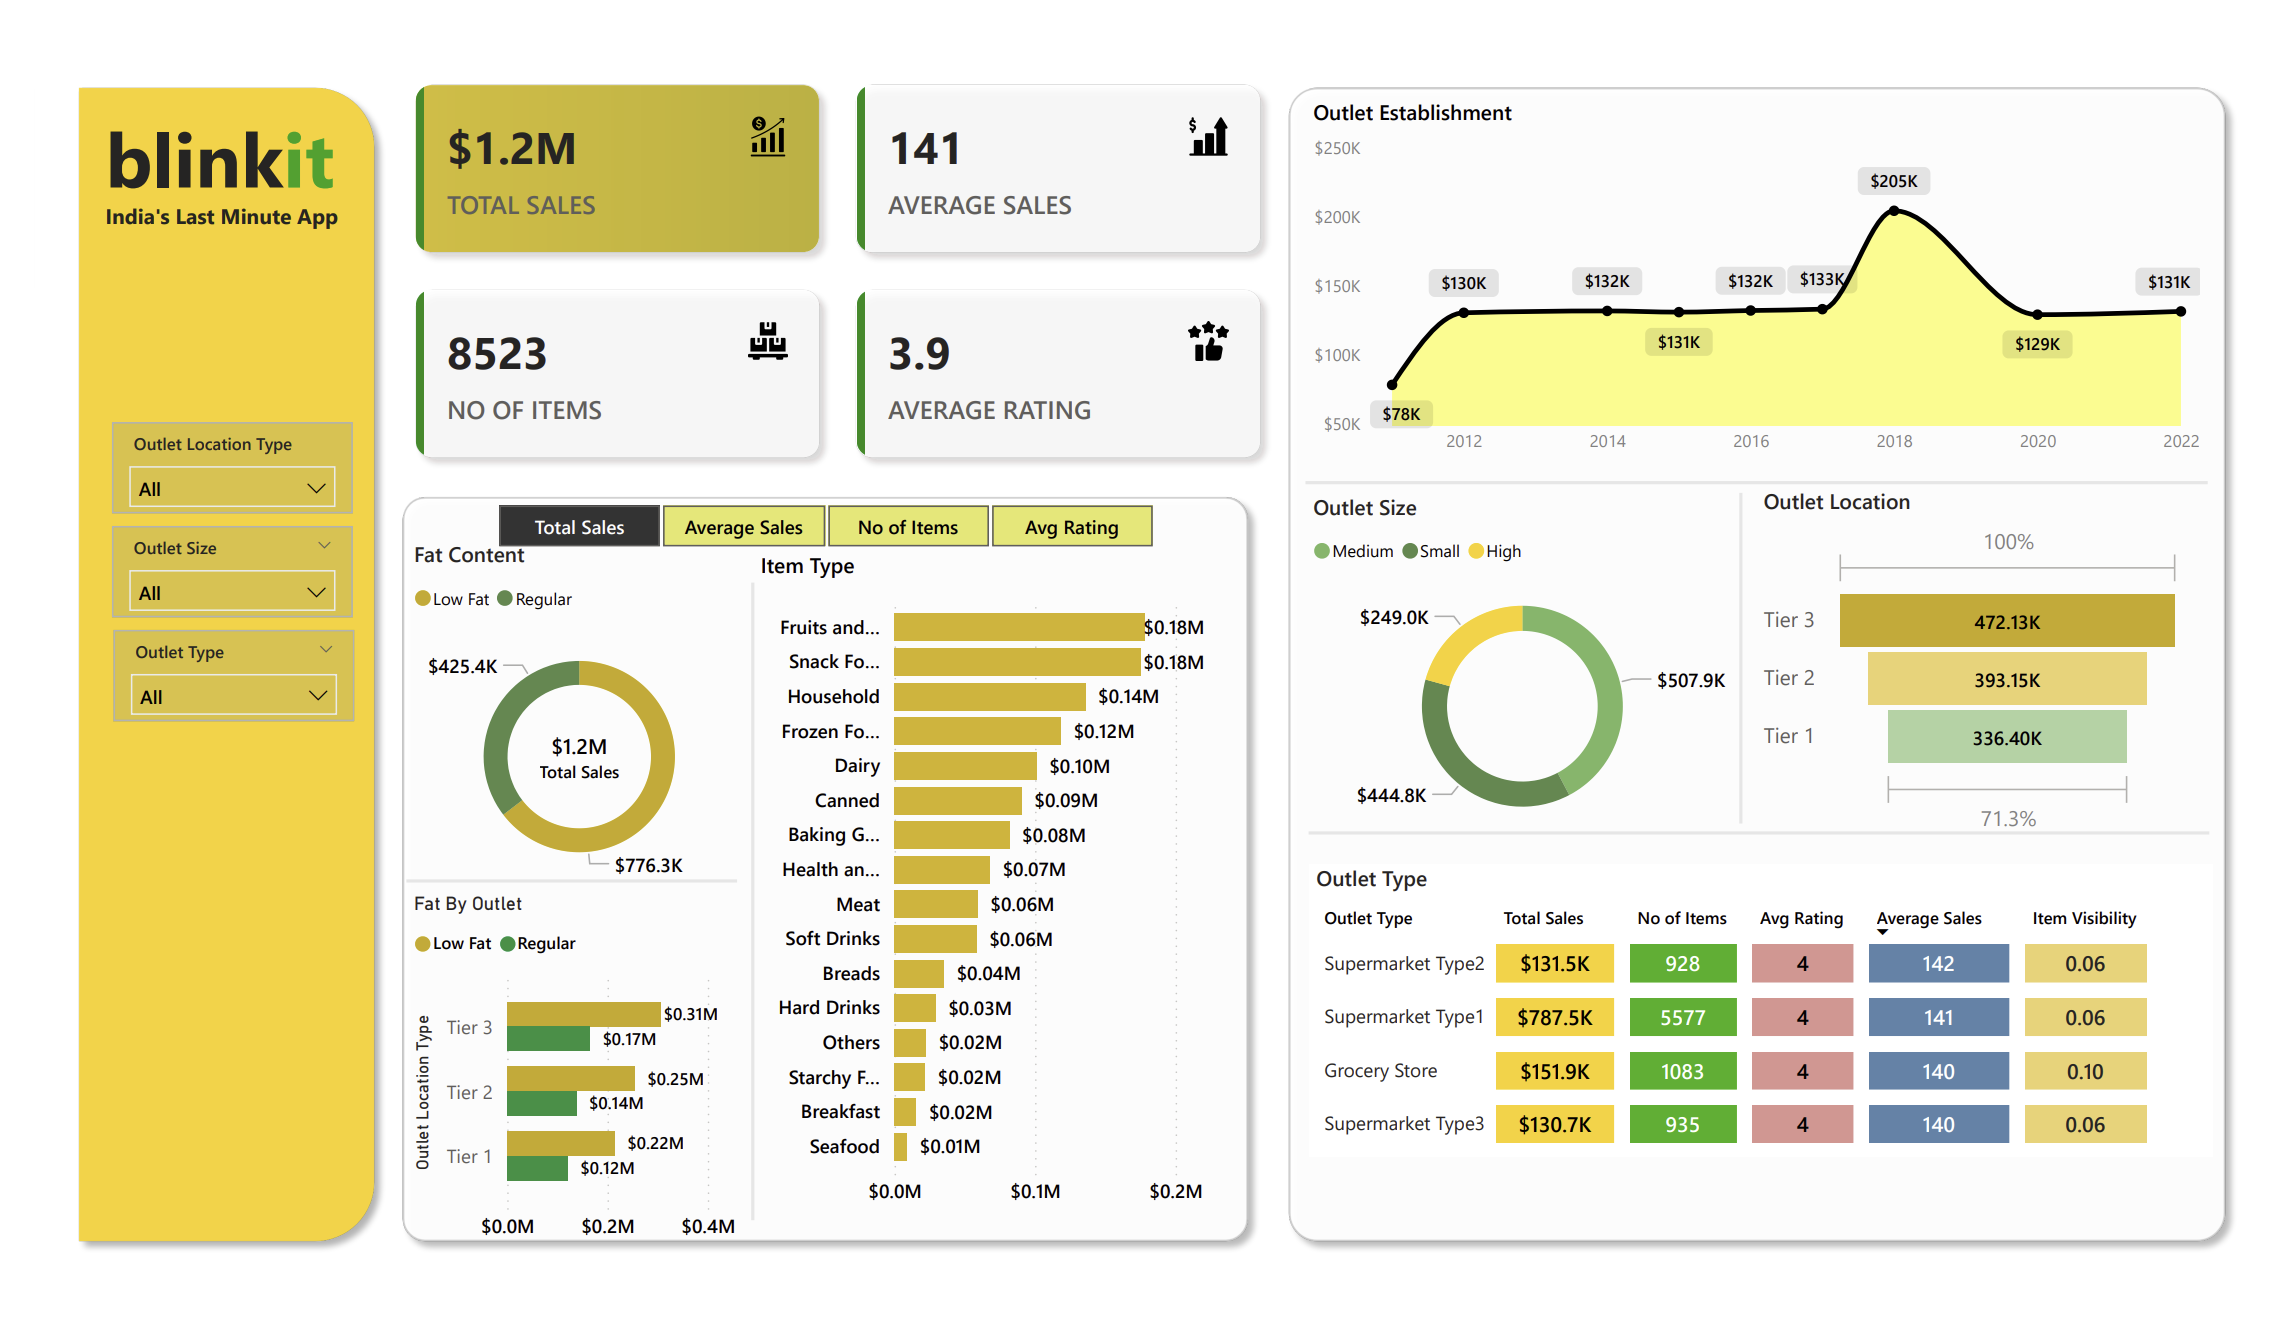

This screenshot's page, from the dashboard's own definition file:
{"tool":"powerbi","page":{"name":"Page 1","canvas":[1400,800],"ordinal":0},"visuals":[{"type":"shape","box":[19,25,205,750],"z":0},{"type":"textbox","box":[40,40,165,93.3],"z":1000},{"type":"textbox","box":[273.3,681.7,328.3,93.3],"z":2000},{"type":"textbox","box":[40,101,162,50],"z":3000},{"type":"cardVisual","fields":{"Data":["BlinkIT Grocery Data.Total Sales","BlinkIT Grocery Data.Average Sales","BlinkIT Grocery Data.No of Items","BlinkIT Grocery Data.Avg Rating"]},"box":[225,15,570,270],"z":4000},{"type":"shape","box":[225,285,554,490],"z":5000},{"type":"donutChart","title":"Fat Content","fields":{"Y":["BlinkIT Grocery Data.Total Sales"],"Category":["BlinkIT Grocery Data.Item Fat Content"]},"box":[236,321,220,230],"z":6000},{"type":"slicer","fields":{"Values":["Metrics.Metrics"]},"box":[269,292,465,40],"z":7000},{"type":"cardVisual","fields":{"Data":["BlinkIT Grocery Data.Total Sales"]},"box":[289,425,114,61],"z":8000},{"type":"clusteredBarChart","title":"Fat By Outlet","fields":{"Y":["BlinkIT Grocery Data.Total Sales"],"Category":["BlinkIT Grocery Data.Outlet Location Type"],"Series":["BlinkIT Grocery Data.Item Fat Content"]},"box":[236,545,220,230],"z":9000},{"type":"shape","box":[236,517,210,41],"z":10000},{"type":"shape","box":[438,348,36,405],"z":11000},{"type":"barChart","title":"Item Type","fields":{"Y":["BlinkIT Grocery Data.Total Sales"],"Category":["BlinkIT Grocery Data.Item Type"]},"box":[456,328,309,425],"z":12000},{"type":"shape","box":[788,25,612,750],"z":13000},{"type":"lineChart","title":"Outlet Establishment","fields":{"Category":["BlinkIT Grocery Data.Outlet Establishment Year"],"Y":["BlinkIT Grocery Data.Total Sales"]},"box":[807,40,573,235],"z":14000},{"type":"shape","box":[807,264,573,41],"z":15000},{"type":"donutChart","title":"Outlet Size","fields":{"Y":["BlinkIT Grocery Data.Total Sales"],"Category":["BlinkIT Grocery Data.Outlet Size"]},"box":[807.1,291.4,275.7,225.7],"z":16000},{"type":"shape","box":[1065.7,291.4,35.7,210],"z":17000},{"type":"funnel","title":"Outlet Location","fields":{"Category":["BlinkIT Grocery Data.Outlet Location Type"],"Y":["Sum(BlinkIT Grocery Data.Sales)"]},"box":[1092.9,287.1,275.7,225.7],"z":18000},{"type":"shape","box":[808.6,487.1,572.9,40],"z":19000},{"type":"pivotTable","title":"Outlet Type","fields":{"Rows":["BlinkIT Grocery Data.Outlet Type"],"Values":["BlinkIT Grocery Data.Total Sales","BlinkIT Grocery Data.No of Items","BlinkIT Grocery Data.Avg Rating","BlinkIT Grocery Data.Average Sales","Avg(BlinkIT Grocery Data.Item Visibility)"]},"box":[808.6,527.1,574.3,185.7],"z":20000},{"type":"slicer","fields":{"Values":["BlinkIT Grocery Data.Outlet Location Type"]},"box":[49,246,153,58],"z":21000},{"type":"slicer","fields":{"Values":["BlinkIT Grocery Data.Outlet Size"]},"box":[49,312,153,58],"z":22000},{"type":"slicer","fields":{"Values":["BlinkIT Grocery Data.Outlet Type"]},"box":[50,378,153,58],"z":23000}]}

Visuals, with their boxes in screenshot pixels (x1, y1, x2, y2), scaled from the page's 1400x800 canvas onto the 2270x1328 screenshot:
shape: (31,42,363,1286)
textbox: (65,66,332,221)
textbox: (443,1132,975,1286)
textbox: (65,168,328,251)
cardVisual - BlinkIT Grocery Data.Total Sales x BlinkIT Grocery Data.Average Sales: (365,25,1289,473)
shape: (365,473,1263,1286)
"Fat Content" donutChart: (383,533,739,915)
slicer - Metrics.Metrics: (436,485,1190,551)
cardVisual - BlinkIT Grocery Data.Total Sales: (469,706,653,807)
"Fat By Outlet" clusteredBarChart: (383,905,739,1286)
shape: (383,858,723,926)
shape: (710,578,769,1250)
"Item Type" barChart: (739,544,1240,1250)
shape: (1278,42,2269,1286)
"Outlet Establishment" lineChart: (1308,66,2238,456)
shape: (1308,438,2238,506)
"Outlet Size" donutChart: (1309,484,1756,858)
shape: (1728,484,1786,832)
"Outlet Location" funnel: (1772,477,2219,851)
shape: (1311,809,2240,875)
"Outlet Type" pivotTable: (1311,875,2242,1183)
slicer - BlinkIT Grocery Data.Outlet Location Type: (79,408,328,505)
slicer - BlinkIT Grocery Data.Outlet Size: (79,518,328,614)
slicer - BlinkIT Grocery Data.Outlet Type: (81,627,329,724)
